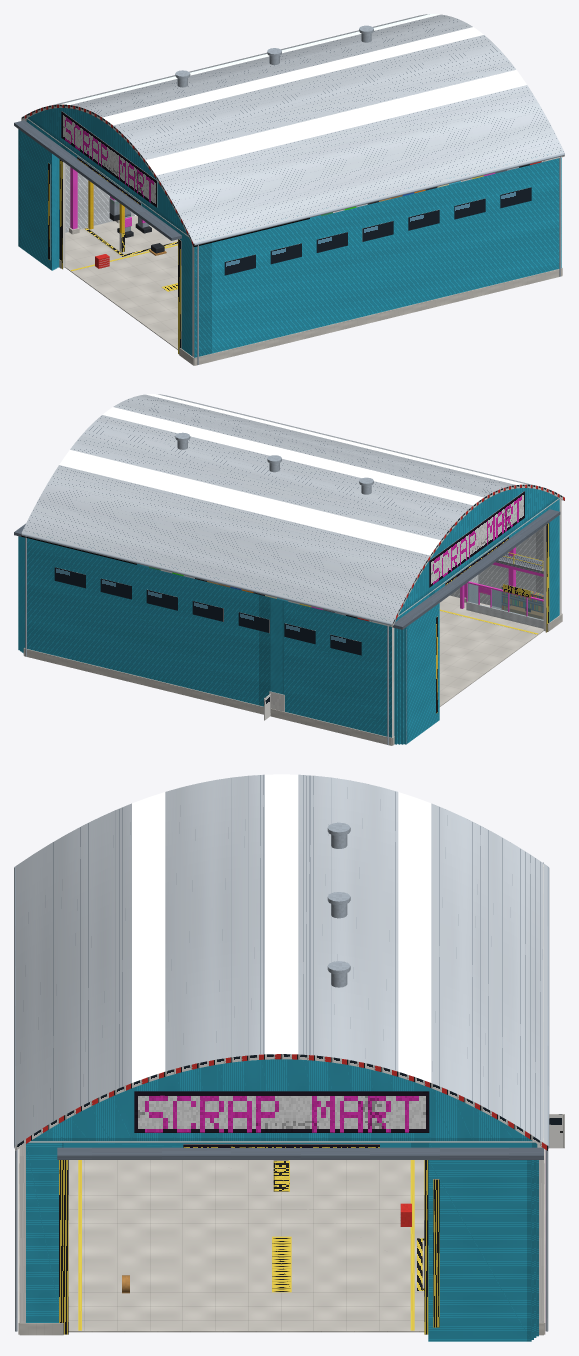
The model's file is p_sm_hangar.glb.
3 renders of one model, top to bottom at view 1: azimuth 30°, elevation 25°; view 2: azimuth 150°, elevation 25°; view 3: azimuth 270°, elevation 25°, orthographic. The views are drawn at different scales.
Parts seen in each view (by area): view 1: p_sm_hangar_lod0; view 2: p_sm_hangar_lod0; view 3: p_sm_hangar_lod0.
Boxes of the visible parts, <box> form: p_sm_hangar_lod0: <box>14,14,564,365</box>; p_sm_hangar_lod0: <box>14,394,564,745</box>; p_sm_hangar_lod0: <box>14,774,564,1341</box>.
Size of what is drawn, in the model's own units: 42.3 by 20.32 by 33.63.
5 materials, 2 textured.
